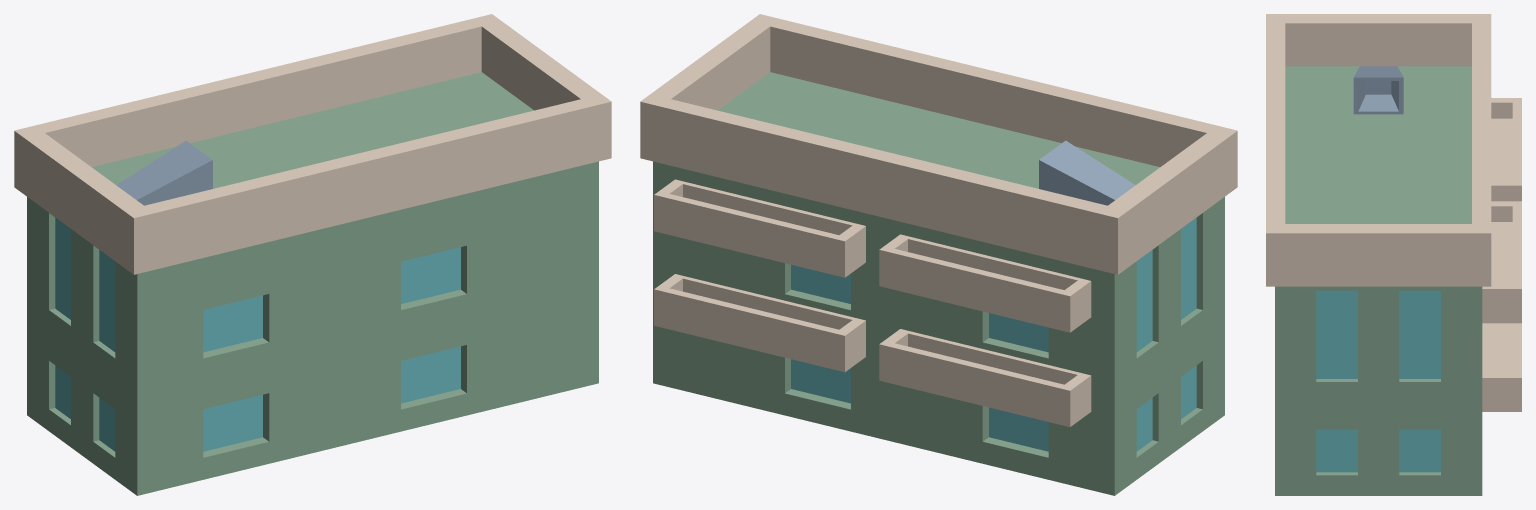
File: house_2.fbx
3 renders of one model, left to right at view 1: azimuth 30°, elevation 25°; view 2: azimuth 150°, elevation 25°; view 3: azimuth 270°, elevation 25°, orthographic. The views are drawn at different scales.
Visible parts, largest first — view 1: polySurface1869; view 2: polySurface1869; view 3: polySurface1869.
Part boxes in pixels (x1,y1,x2,y2): polySurface1869: [14, 14, 611, 495]; polySurface1869: [640, 14, 1237, 495]; polySurface1869: [1266, 14, 1521, 495].
Bounding box in the file's own units: 38 × 18.74 × 21.52.
